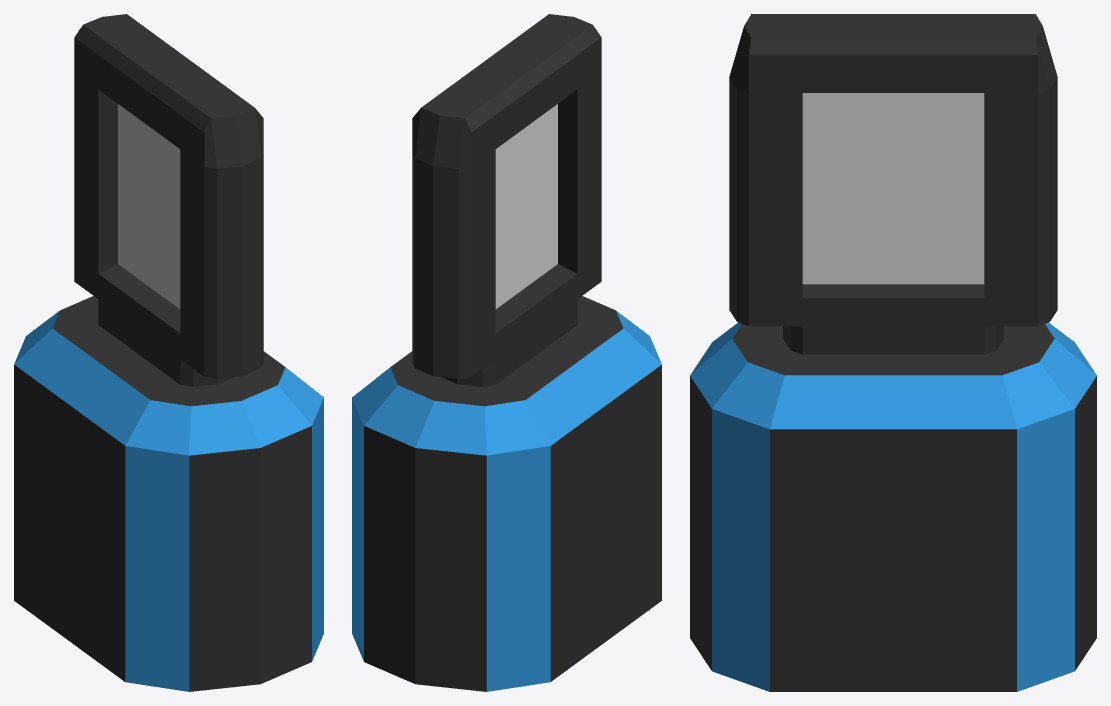
The model's file is Shield Generator.fbx.
3 views of the same model, side by side, from view 1: azimuth 30°, elevation 25°; view 2: azimuth 150°, elevation 25°; view 3: azimuth 270°, elevation 25° (orthographic). The views are drawn at different scales.
Visible parts, largest first — view 1: Shield Generator; view 2: Shield Generator; view 3: Shield Generator.
Boxes of the visible parts, <box> form: Shield Generator: <box>14,14,323,691</box>; Shield Generator: <box>352,14,661,691</box>; Shield Generator: <box>690,14,1096,691</box>.
Bounding box in the file's own units: 190 × 504 × 304.
